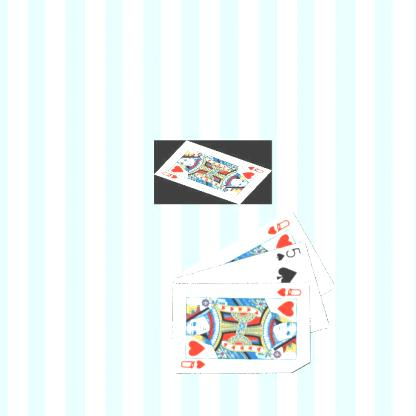5S: (274, 244, 302, 262)
QH: (264, 216, 292, 236), (178, 354, 210, 370), (274, 284, 303, 298)
